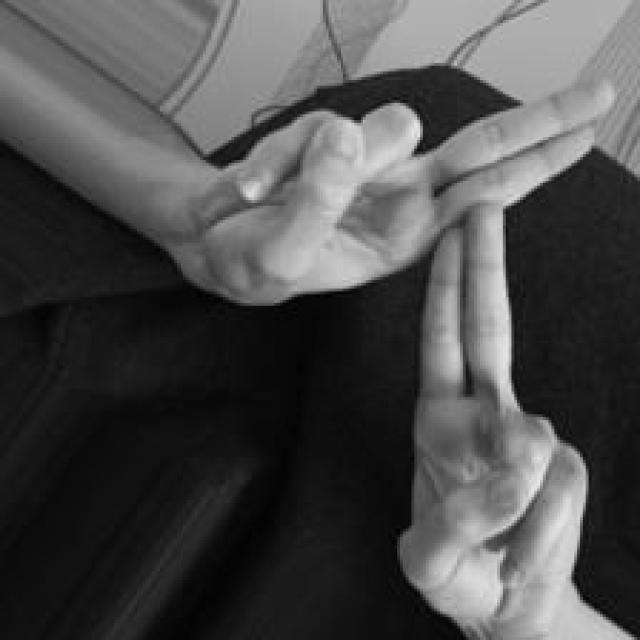K: (186, 76, 636, 612)
